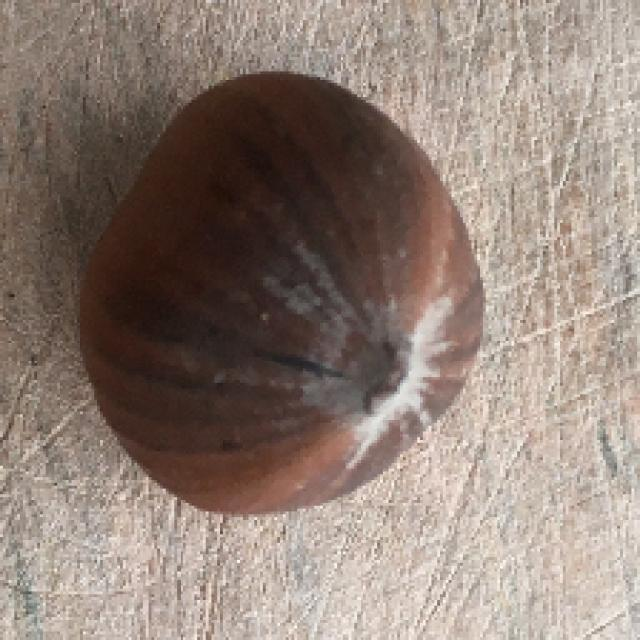DamagedHazelnut: (78, 72, 485, 516)
